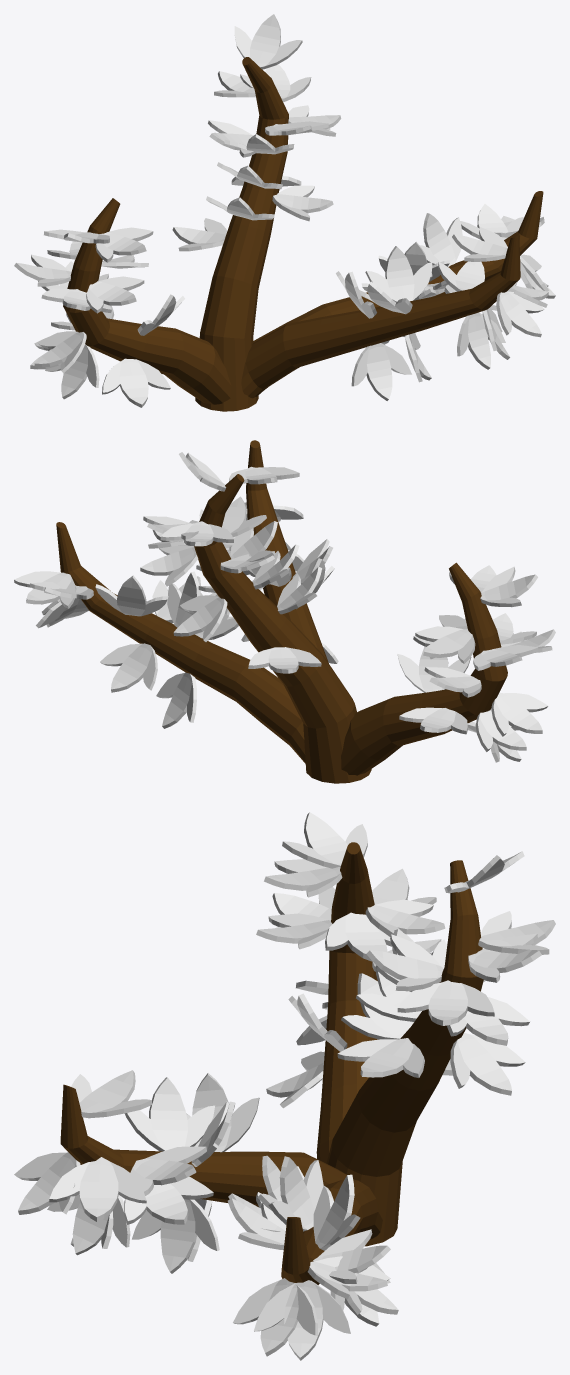
Rendered from Arbusto3Hoja2Otoño.fbx.
3 views of the same model, one above another, from view 1: azimuth 30°, elevation 25°; view 2: azimuth 150°, elevation 25°; view 3: azimuth 270°, elevation 25° (orthographic). The views are drawn at different scales.
Visible parts, largest first — view 1: RamaArbusto3Hoja2Otoño; view 2: RamaArbusto3Hoja2Otoño; view 3: RamaArbusto3Hoja2Otoño.
Part boxes in pixels (<box>): RamaArbusto3Hoja2Otoño: <box>14,14,555,411</box>; RamaArbusto3Hoja2Otoño: <box>14,440,555,783</box>; RamaArbusto3Hoja2Otoño: <box>14,812,555,1360</box>.
Bounding box in the file's own units: 184 × 111 × 124.
